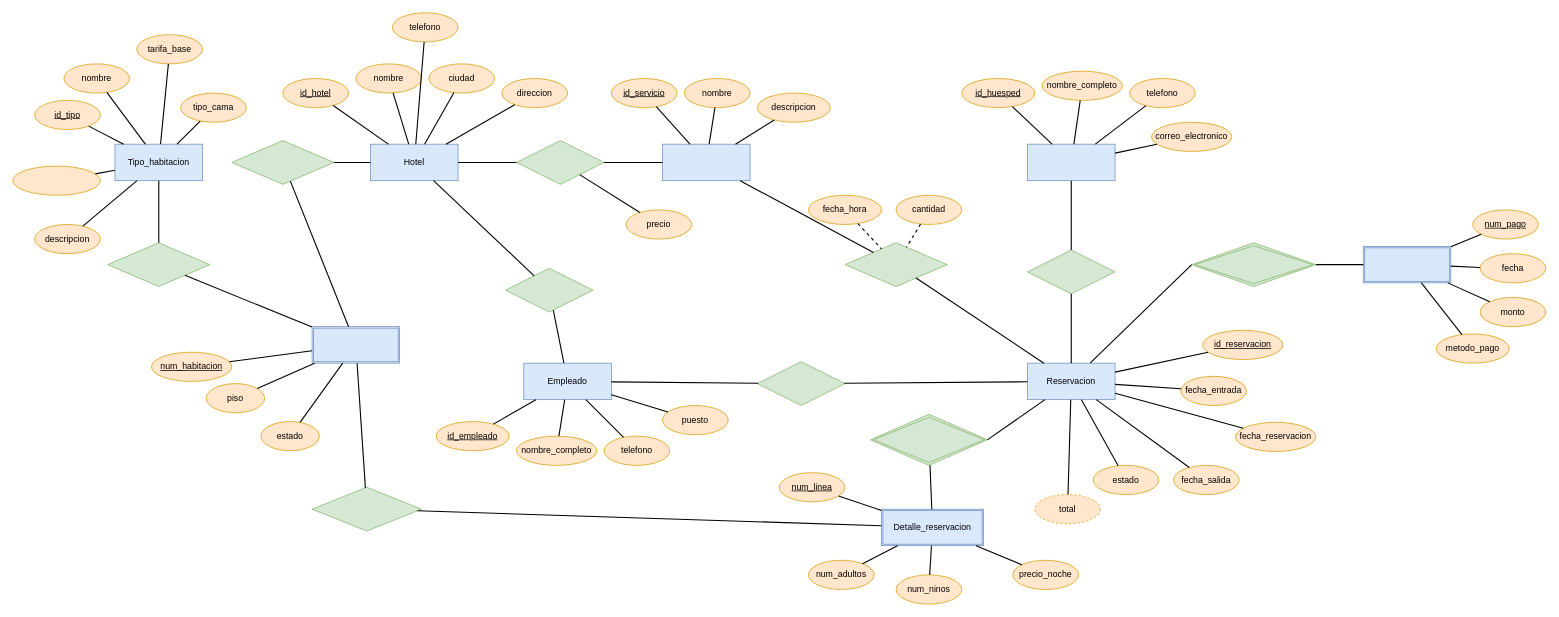
Some shapes in this 1559 by 617 pixel diagram are drawn without their labels. The shapes that lost their labels are listed below. From the top down, each one's box as (x1, y1, x2, y2) in pixels, then its label:
(12, 165, 100, 195): capacidad_maxima
(231, 140, 334, 184): cuenta con (1:M)
(516, 140, 604, 184): ofrece (M:M)
(662, 143, 750, 181): Servicio
(1027, 143, 1115, 181): Huesped
(107, 242, 210, 287): clasifica (1:M)
(844, 242, 947, 287): consume (M:M)
(1027, 249, 1115, 294): realiza (1:M)
(1191, 242, 1316, 287): se paga con (1:M)
(1363, 246, 1451, 283): Pago
(505, 268, 593, 312): emplea (1:M)
(311, 326, 400, 363): Habitacion
(757, 361, 845, 406): atiende (1:M)
(870, 414, 987, 465): incluye (1:M)
(311, 487, 422, 531): corresponde (1:M)
